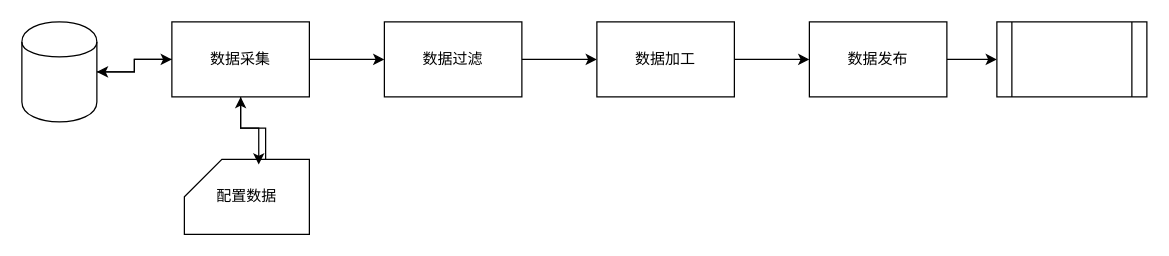
This 1169x256 diagram has some shape labels left out. Each missing label, with the box of its shape:
4G数据: (21, 21, 97, 122)
实时接口: (996, 21, 1147, 97)
